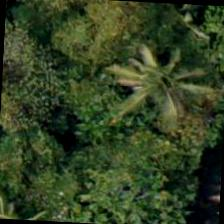Kelapa_Sawit: (105, 34, 200, 128)
